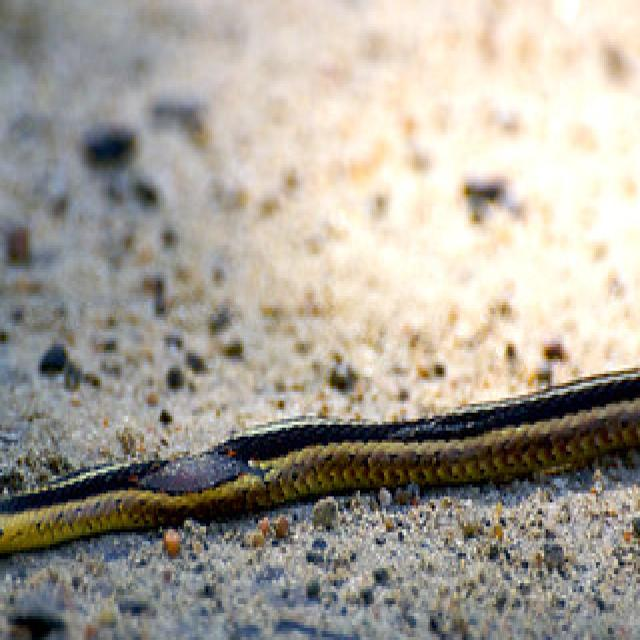Snake: (0, 290, 640, 577)
